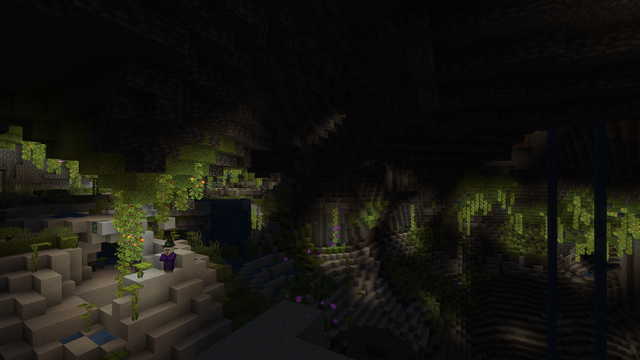creepers: (286, 277, 291, 290)
sorcieres: (162, 244, 175, 274)
